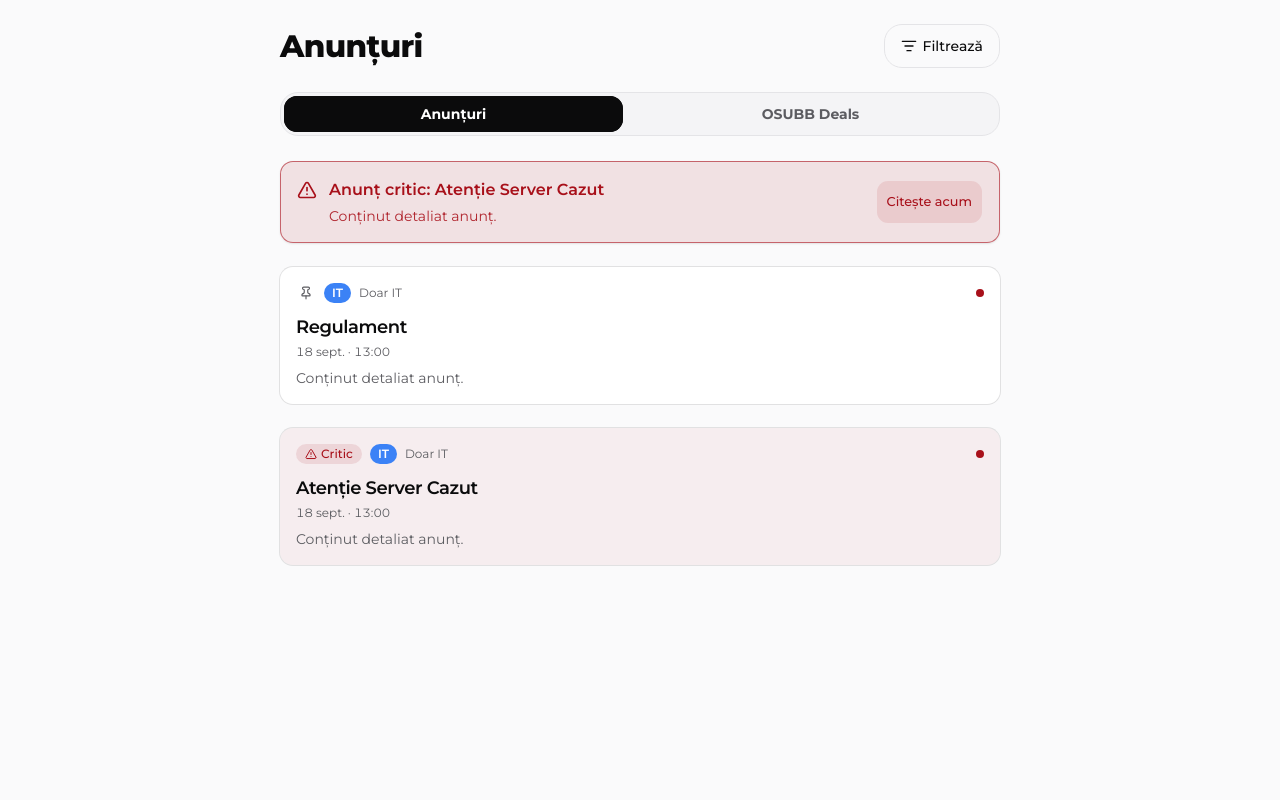
Test: AnnouncementsScreen › the critical banner › opens the Announcement it points at
Click the button "Citește acum": (929, 201) 876,179 -> 983,223
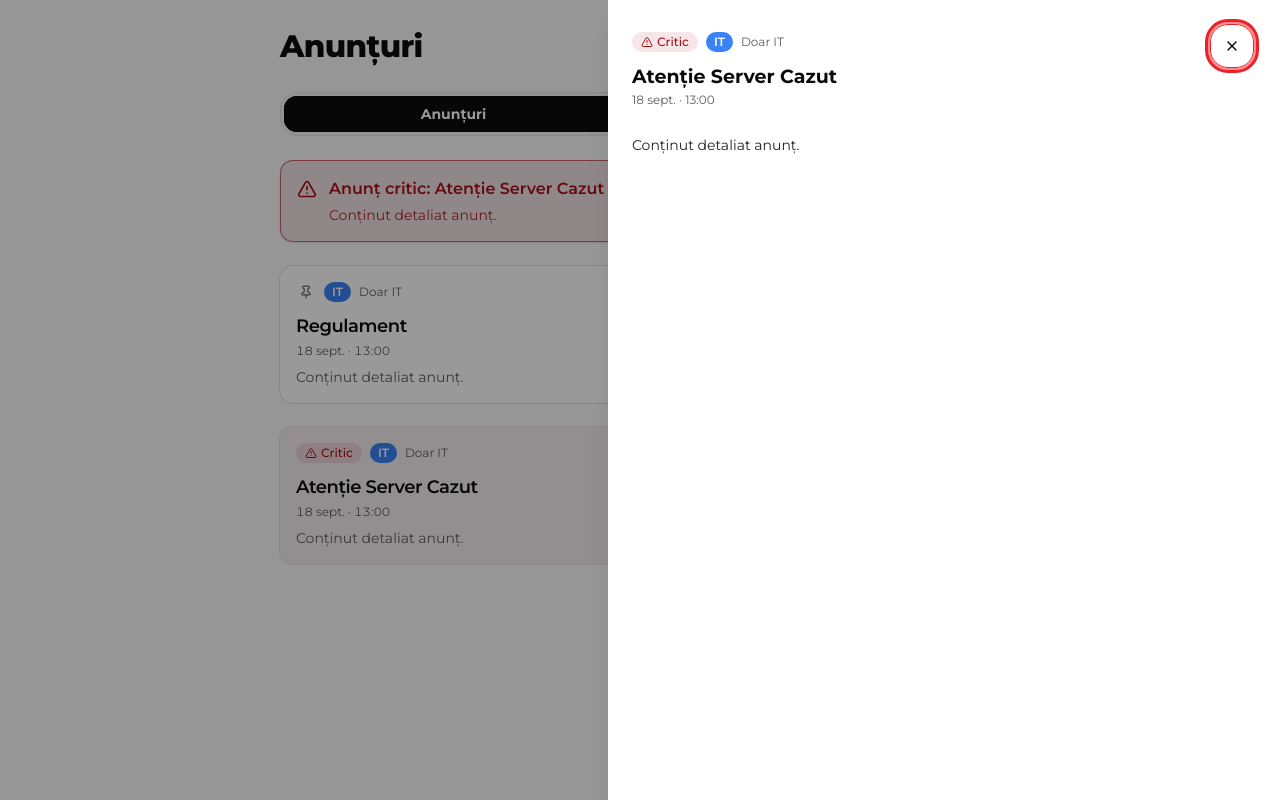
Now the dialog "Atenție Server Cazut" is shown, box 608,0 -> 1279,799
